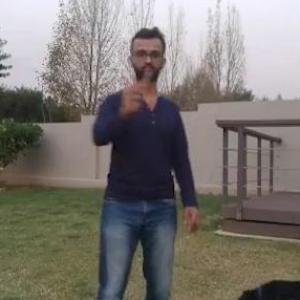takeoff-hand: (112, 67, 145, 116)
